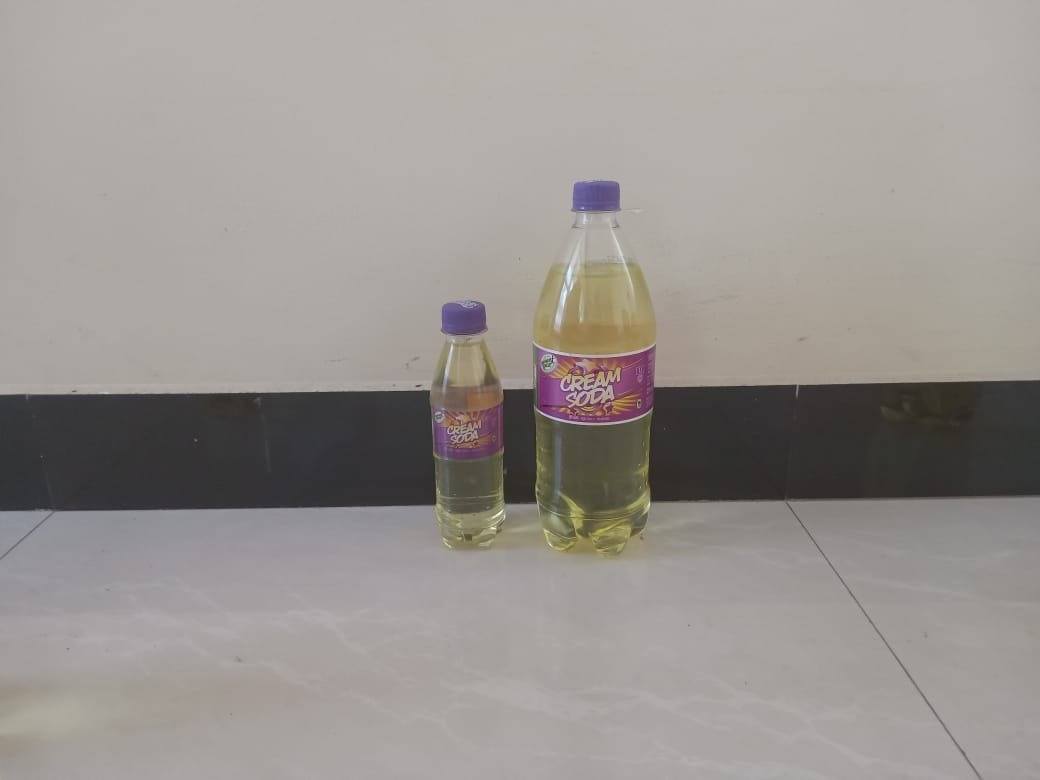M: (529, 178, 659, 556)
Xs: (422, 299, 506, 554)
